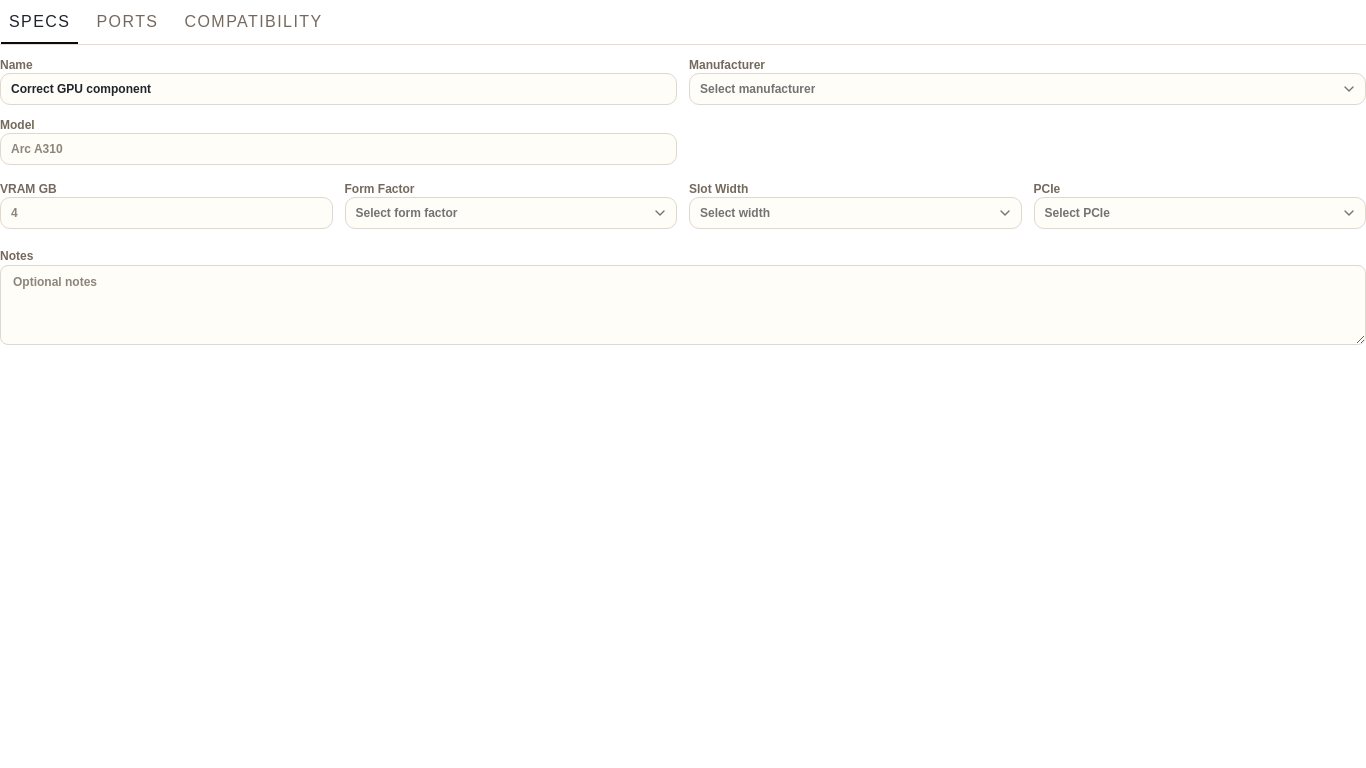
Scenario: ComponentInspectorTabs › resolves a typed assignment when every inventory category reuses numeric ID 1
Click the tab "Compatibility" at x=254, y=22, box x1=176 y1=4 x2=332 y2=40
(page scrolled)
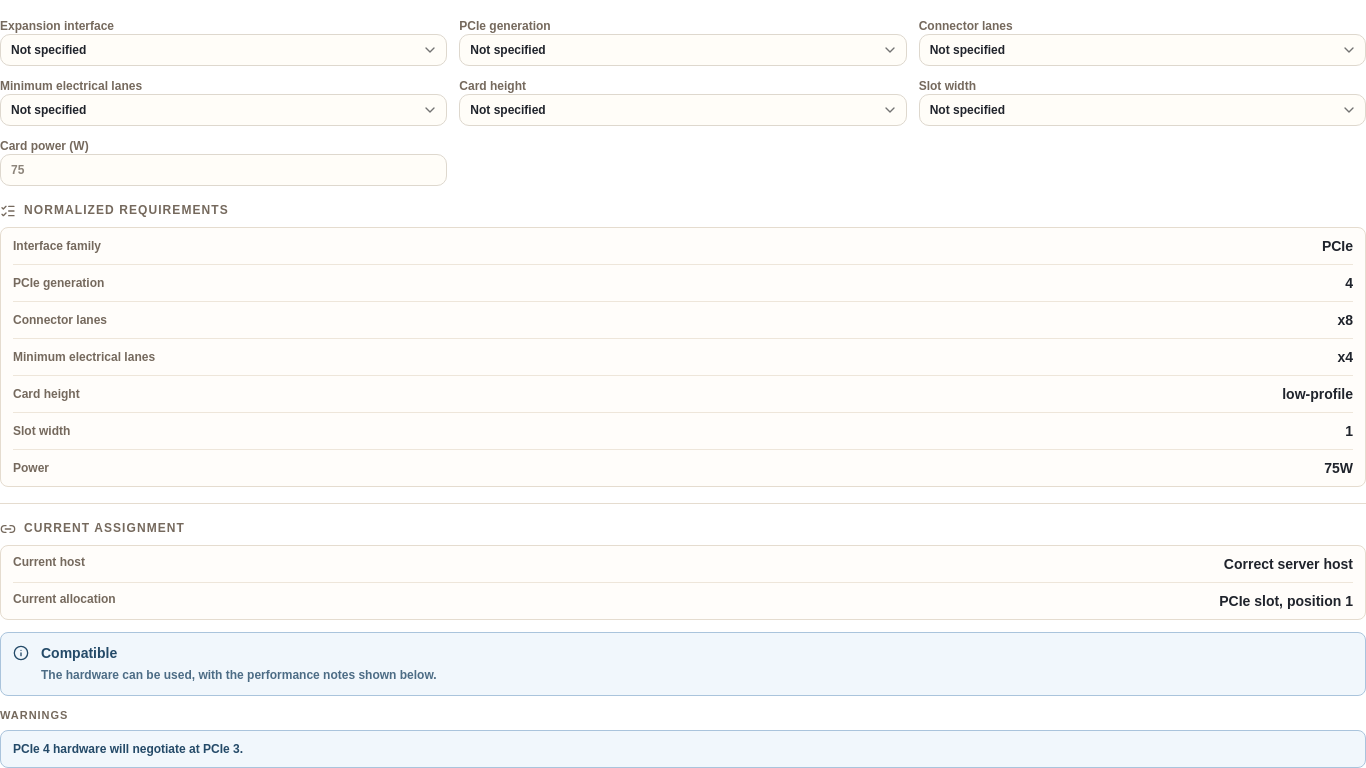
Result: the text "Correct server host" is shown at x1=1224 y1=554 x2=1353 y2=574
Result: the text "PCIe slot, position 1" is shown at x1=1219 y1=591 x2=1353 y2=611
Result: the message shows "Compatible" at x1=41 y1=645 x2=117 y2=661
